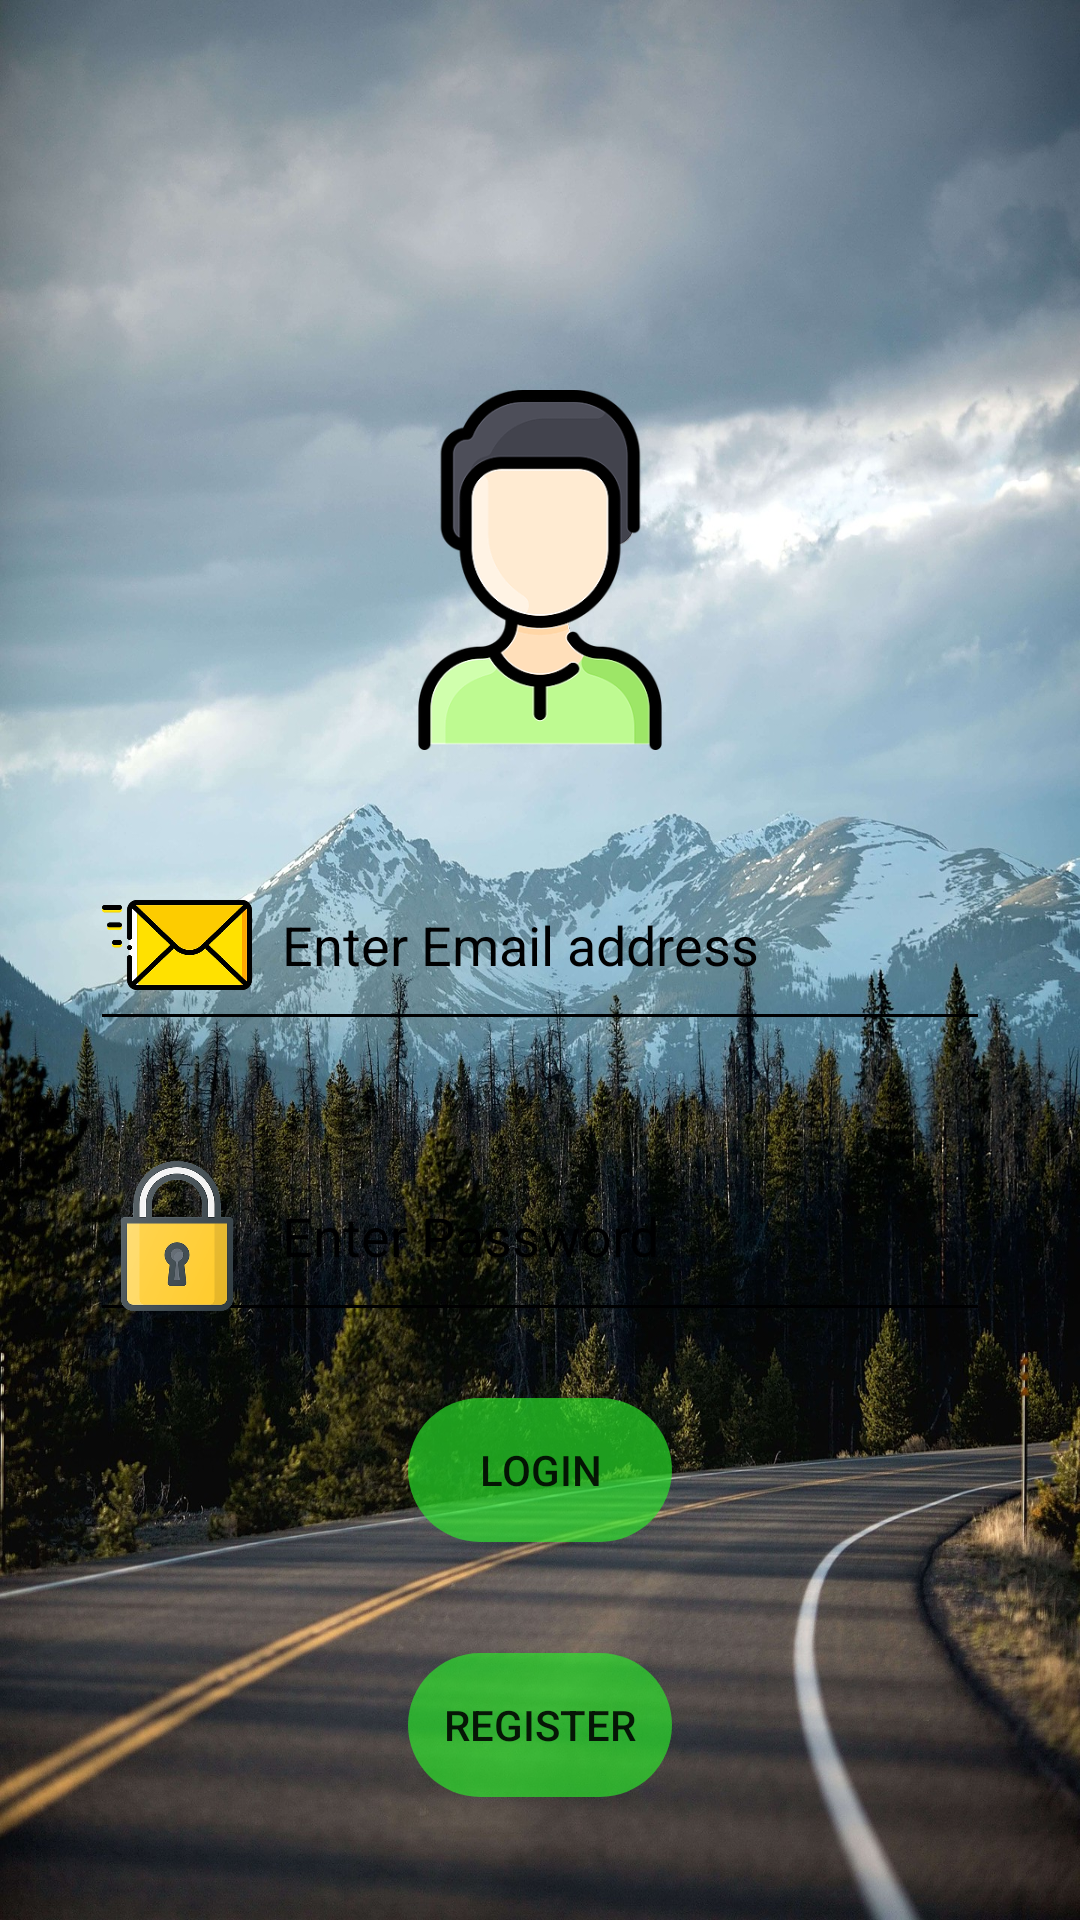

Screen size 1080px x 1920px. Icon name, then its center in pixels as (x=x, y=y):
people: (x=540, y=570)
